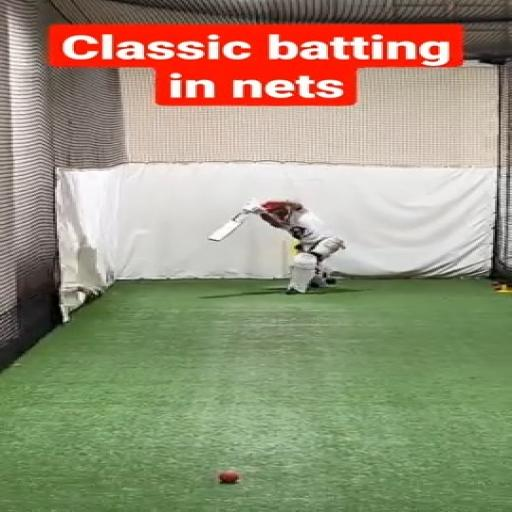Cricket bat: (209, 215, 245, 240)
